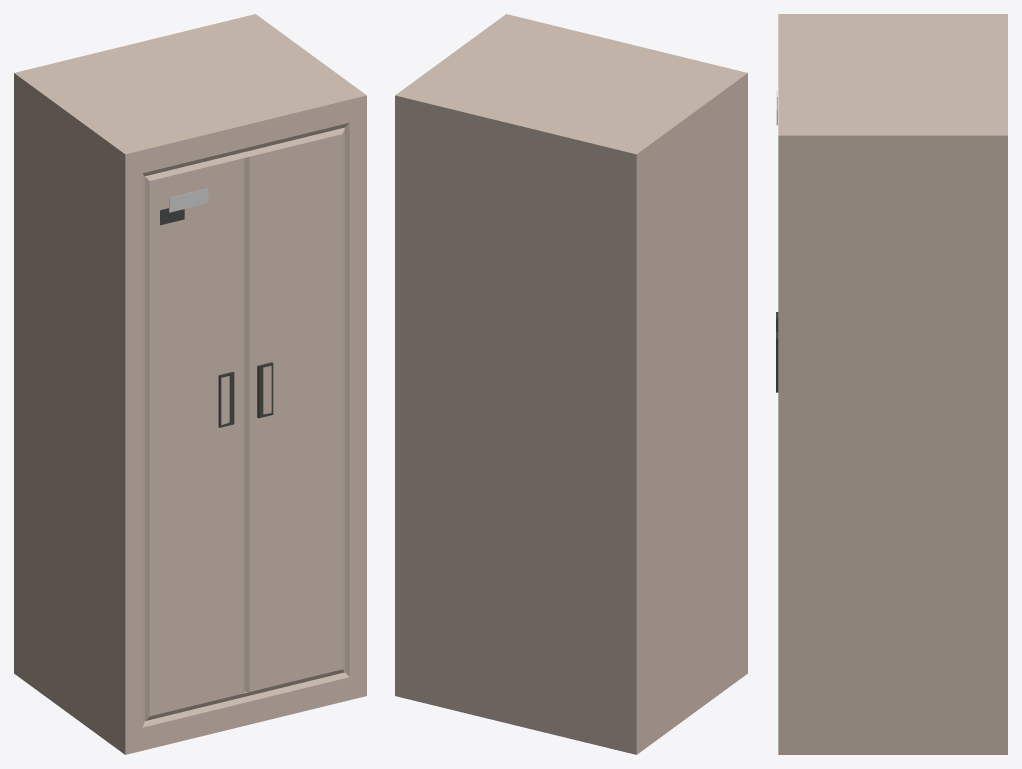
File: 储物柜.obj
3 views of the same model, side by side, from view 1: azimuth 30°, elevation 25°; view 2: azimuth 150°, elevation 25°; view 3: azimuth 270°, elevation 25° (orthographic). The views are drawn at different scales.
Parts seen in each view (by area): view 1: 储物柜; view 2: 储物柜; view 3: 储物柜.
Part boxes in pixels (box(x1,y1,x2,y2)): 储物柜: box(14, 14, 366, 754); 储物柜: box(395, 14, 747, 754); 储物柜: box(776, 14, 1007, 754).
Bounding box in the file's own units: 95.38 × 227 × 76.87.
